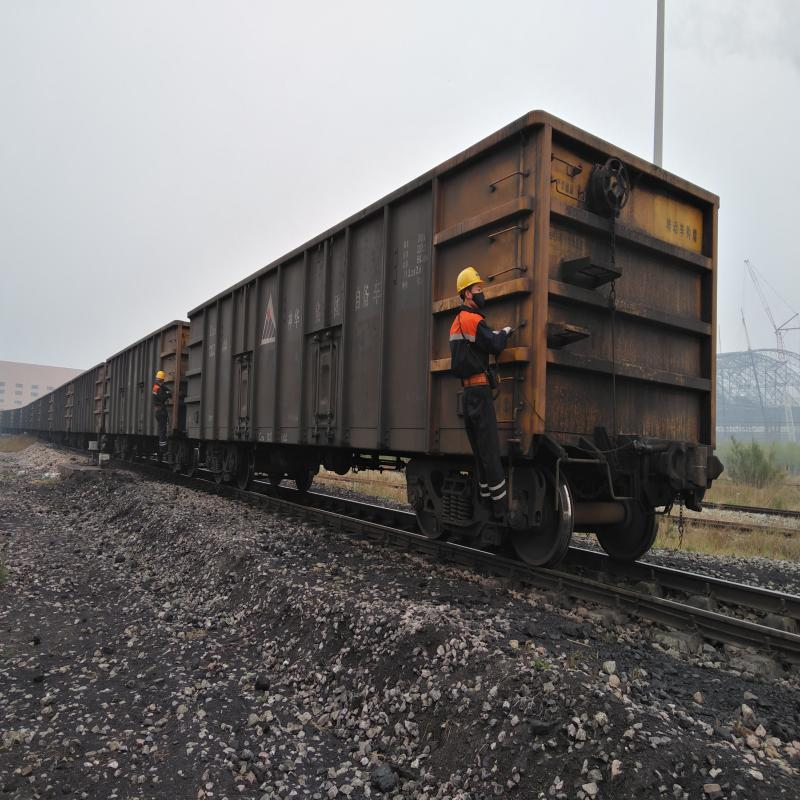train: (188, 308, 343, 499)
